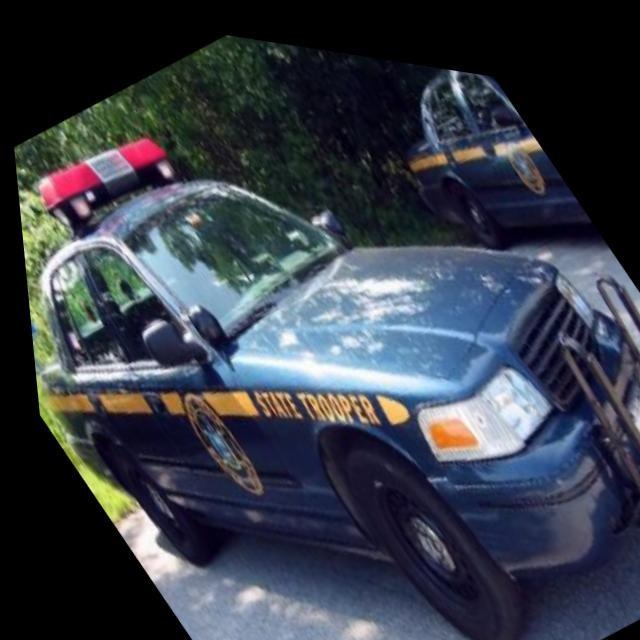license_plate: (610, 368, 640, 440)
